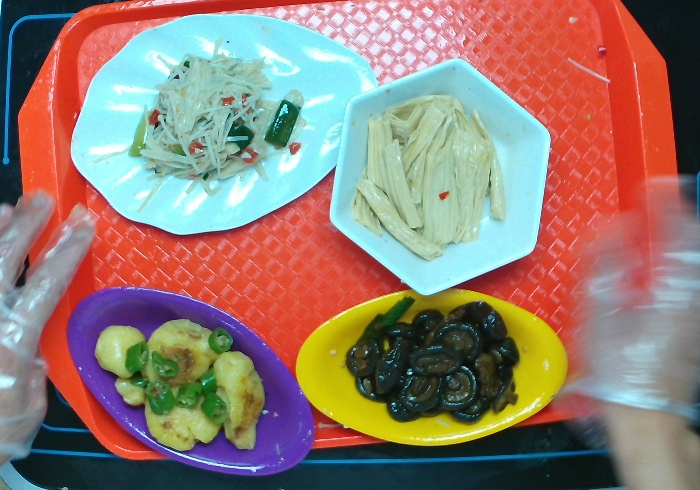RJxy-Bai_Ye_Pan: (68, 6, 380, 237)
RJxy-Fen_Hong_Tuo_Yuan: (61, 272, 319, 486)
RJxy-Huang_Se_Tuo_Yuan: (291, 283, 576, 465)
RJxy-Liu_Jiao_Wan: (319, 45, 555, 300)
